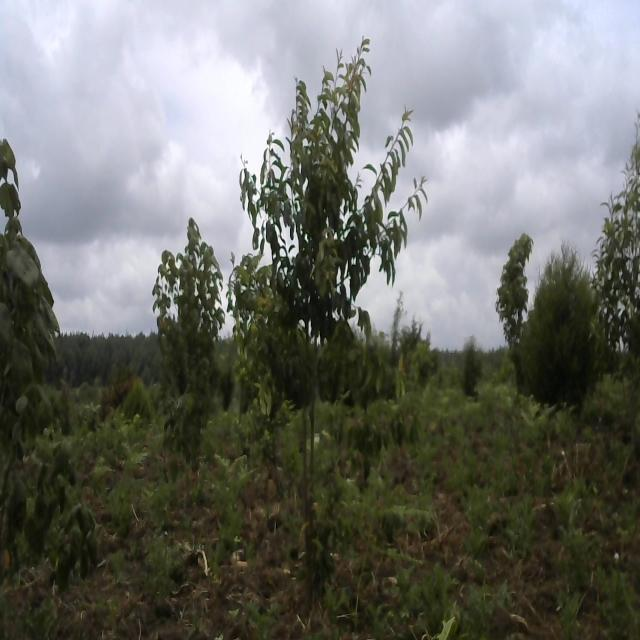Lemon Myrtle: (227, 20, 431, 612), (150, 211, 222, 475)
cedrus: (517, 237, 607, 430)
other: (0, 140, 104, 634)
